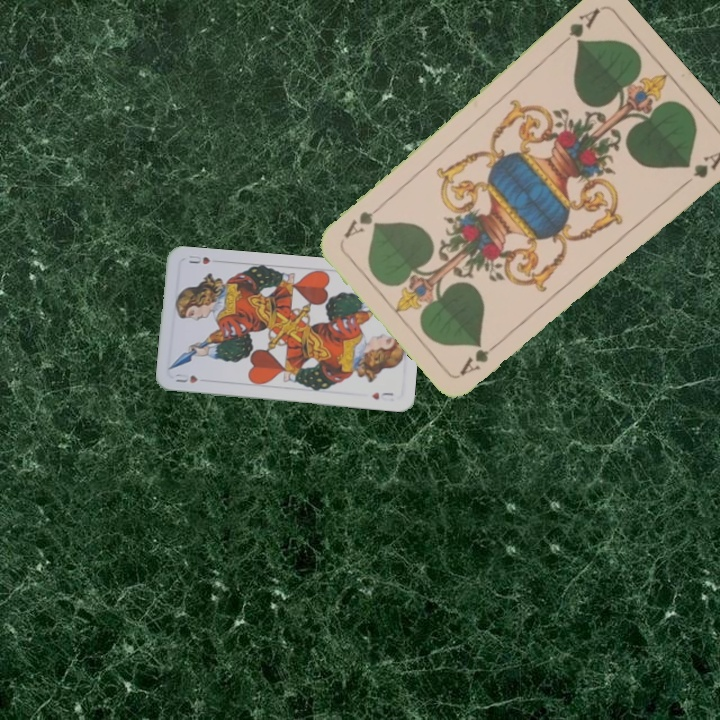GA: (554, 4, 603, 49), (456, 335, 506, 378)
HU: (172, 370, 200, 385)
